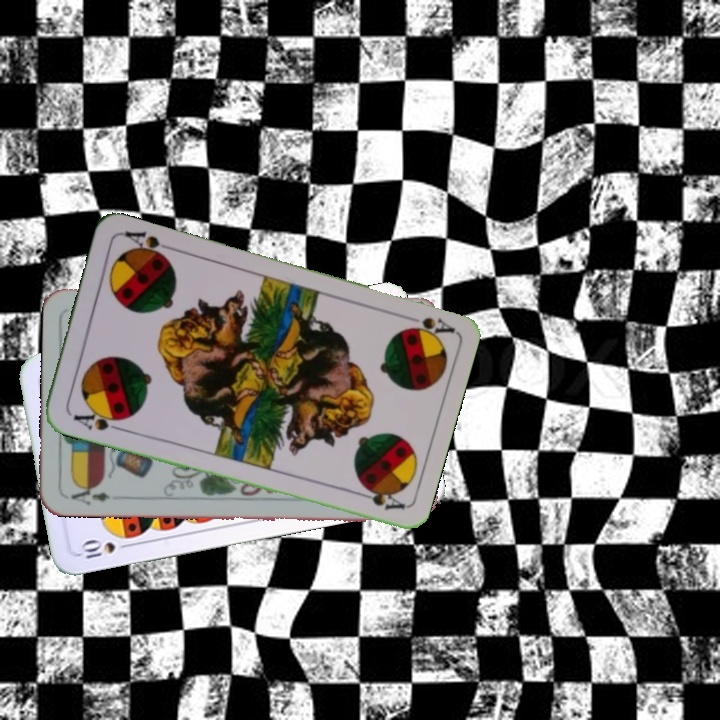EA: (67, 481, 113, 507)
S10: (77, 531, 135, 562)
SA: (397, 310, 456, 341), (69, 405, 127, 434)
